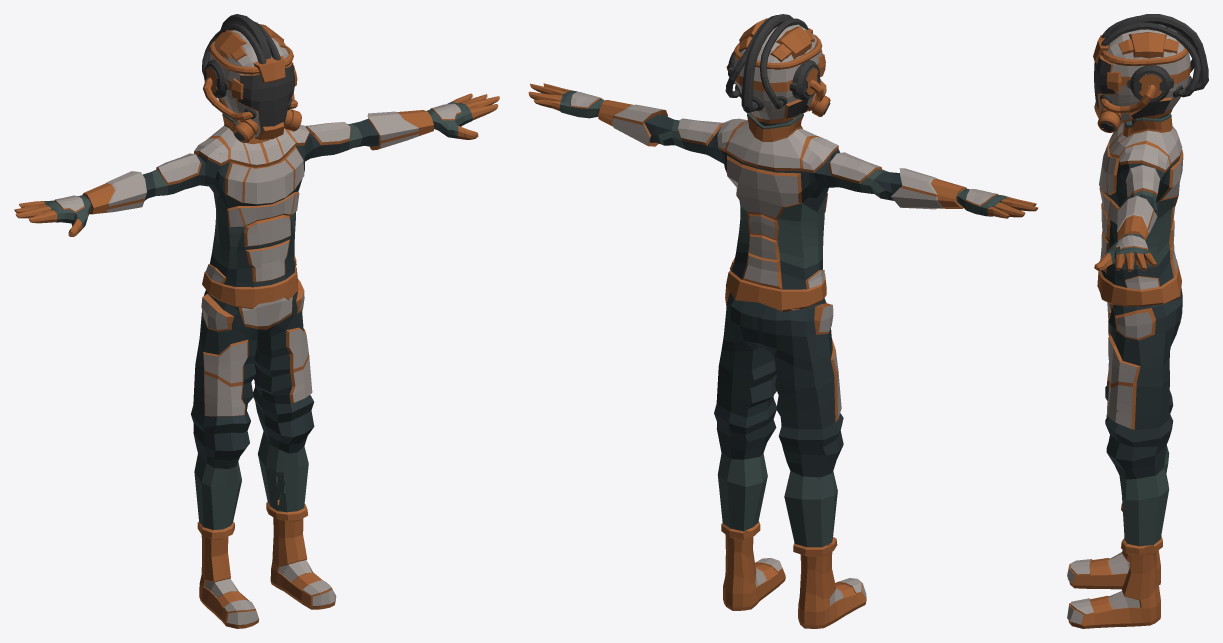
The model's file is Initial_Astronaut.obj.
3 renders of one model, left to right at view 1: azimuth 30°, elevation 25°; view 2: azimuth 150°, elevation 25°; view 3: azimuth 270°, elevation 25°, orthographic. The views are drawn at different scales.
Visible parts, largest first — view 1: SpaceSuit_Legs; view 2: SpaceSuit_Legs; view 3: SpaceSuit_Legs.
Part boxes in pixels (x1,y1,x2,y2): SpaceSuit_Legs: (14, 14, 499, 628); SpaceSuit_Legs: (528, 14, 1038, 628); SpaceSuit_Legs: (1067, 14, 1208, 628).
Size of the model in its own units: 4.02 by 4.53 by 0.9908.
1 material, 1 textured.
